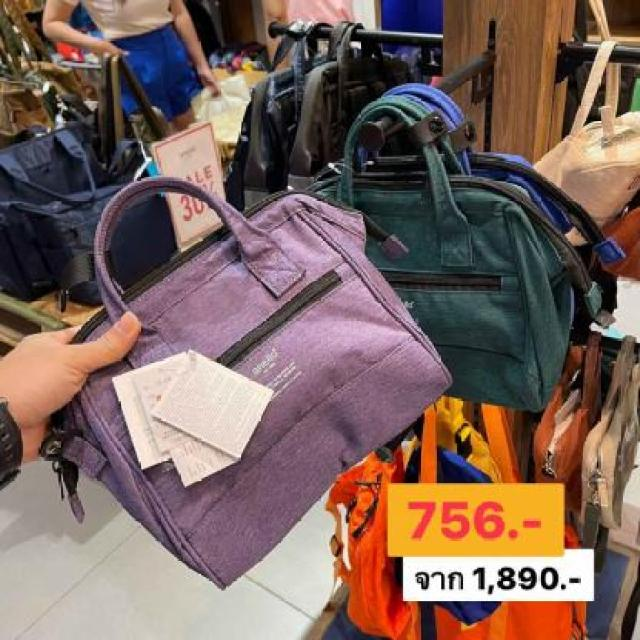Bag: (31, 150, 500, 602)
